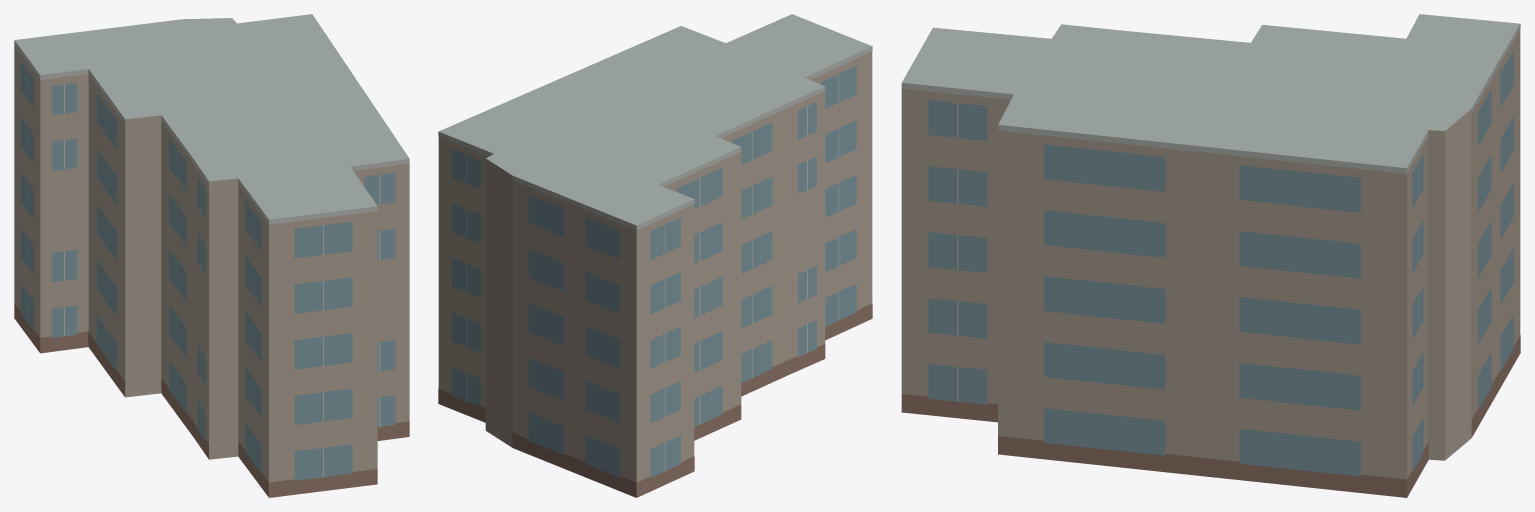
The model's file is survey-upis-32992088.glb.
The picture shows the model from 3 angles, left to right: view 1: azimuth 30°, elevation 25°; view 2: azimuth 150°, elevation 25°; view 3: azimuth 270°, elevation 25°; orthographic projection. The views are drawn at different scales.
Visible parts, largest first — view 1: survey-upis-32992088.tmp; view 2: survey-upis-32992088.tmp; view 3: survey-upis-32992088.tmp.
Part boxes in pixels (bbox=[...]): survey-upis-32992088.tmp: bbox=[14, 14, 409, 497]; survey-upis-32992088.tmp: bbox=[438, 14, 872, 497]; survey-upis-32992088.tmp: bbox=[901, 14, 1520, 497].
Size of the model in its own units: 13.86 by 13.8 by 23.49.
